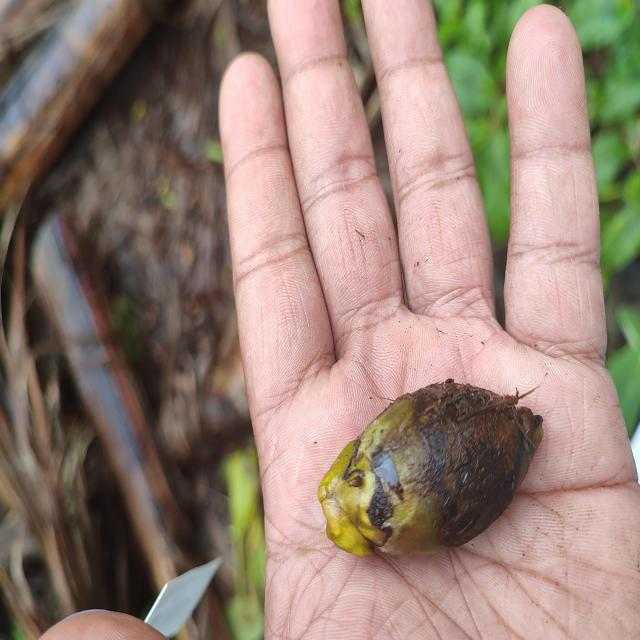damaged: (318, 379, 543, 556)
